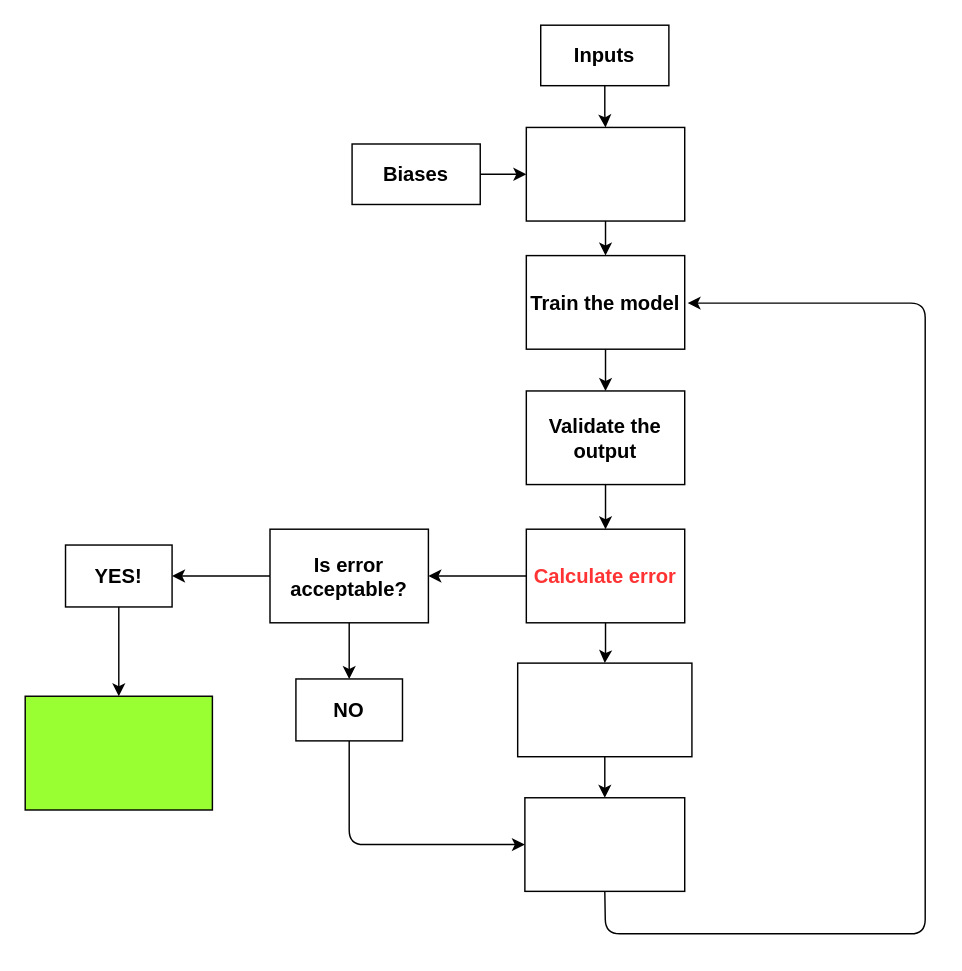
The diagram is 962 pixels wide and 971 high, and some of its shapes have lost their labels. Each missing label, with the box of its shape:
Adjust weights: (523, 796, 685, 891)
Backpropagation: (516, 662, 692, 757)
Model is ready to make predictions: (24, 695, 212, 810)
Randonly Assign Weights: (525, 126, 685, 221)
